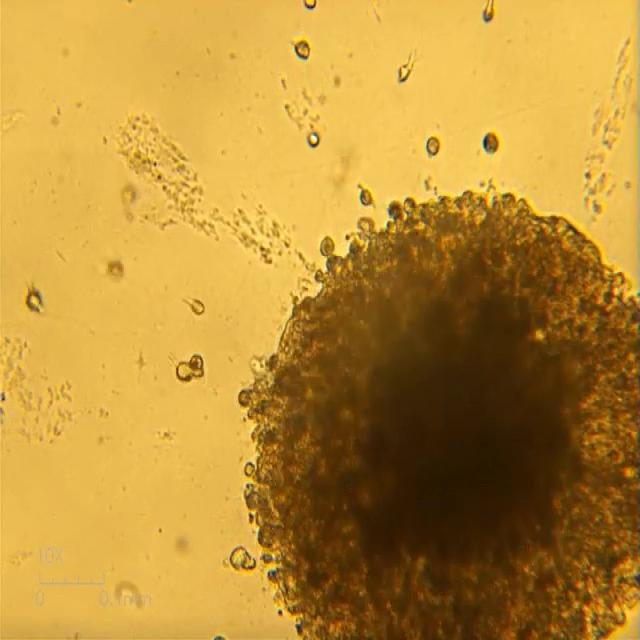cell: (399, 48, 416, 83), (176, 361, 202, 379), (230, 547, 248, 570), (25, 289, 44, 309), (482, 133, 500, 153), (293, 41, 312, 59), (483, 0, 496, 21), (188, 298, 204, 314), (188, 355, 204, 371), (358, 189, 372, 207), (427, 137, 440, 155), (308, 129, 320, 148), (241, 557, 258, 570), (302, 1, 318, 11)
tumor_mass: (238, 183, 640, 640)
